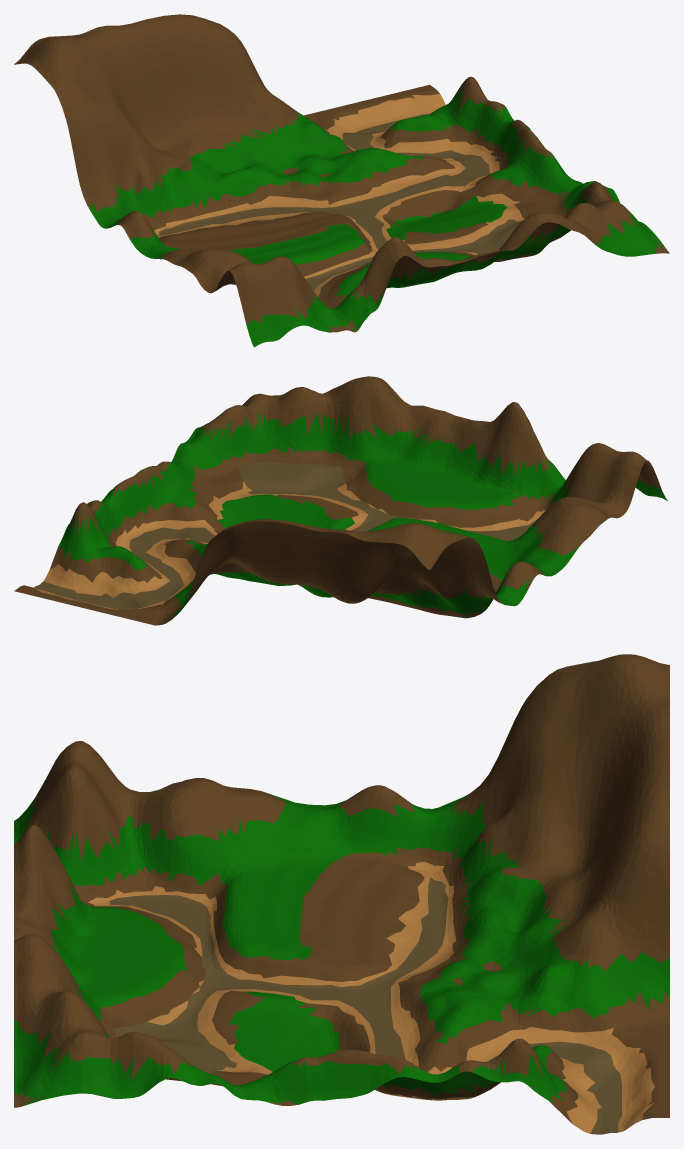
The model's file is world1.fbx.
3 views of the same model, one above another, from view 1: azimuth 30°, elevation 25°; view 2: azimuth 150°, elevation 25°; view 3: azimuth 270°, elevation 25° (orthographic). The views are drawn at different scales.
Visible parts, largest first — view 1: Terrain; view 2: Terrain; view 3: Terrain.
Part boxes in pixels (x1,y1,x2,y2): Terrain: (14,14,669,347); Terrain: (14,376,667,625); Terrain: (14,654,669,1134).
Size of the model in its own units: 19963 by 7495 by 19963.
